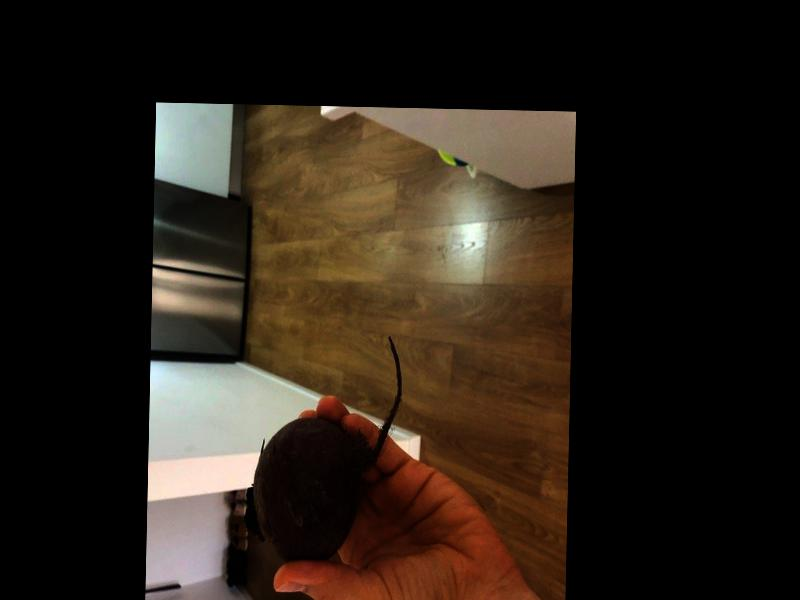Beet: (244, 333, 402, 563)
